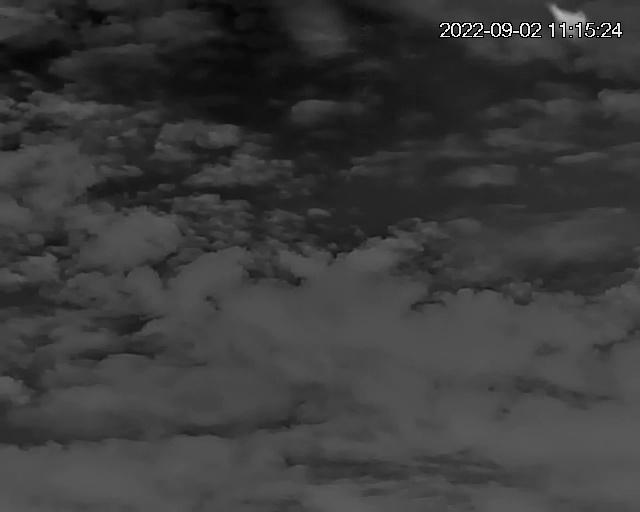DJI-Phantom: (554, 8, 590, 40)
